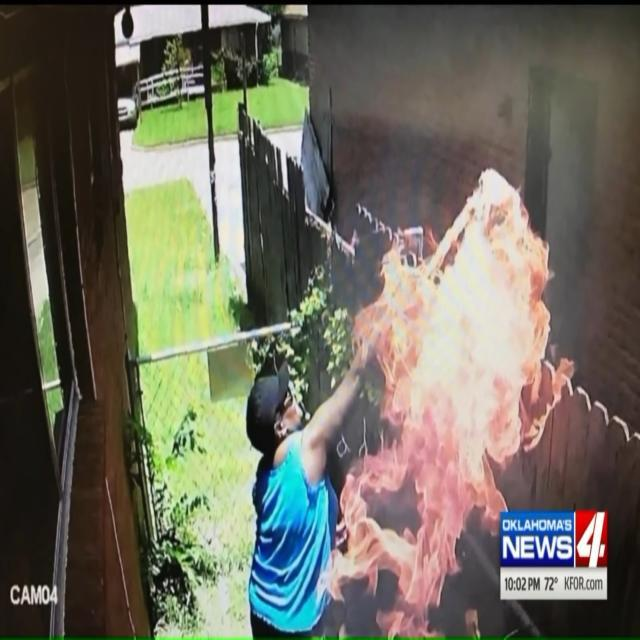Fire: (324, 169, 576, 624)
